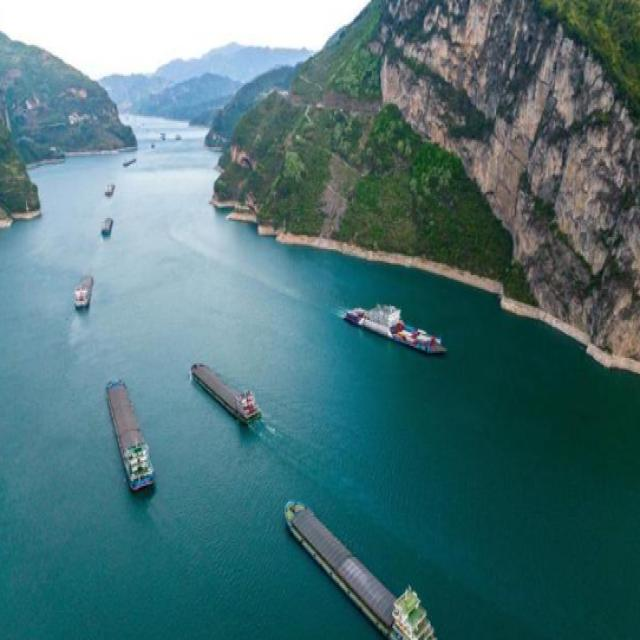cargoship: (279, 484, 445, 640), (104, 369, 158, 499), (342, 290, 447, 348), (186, 353, 266, 428), (68, 274, 94, 317), (99, 212, 117, 241)
